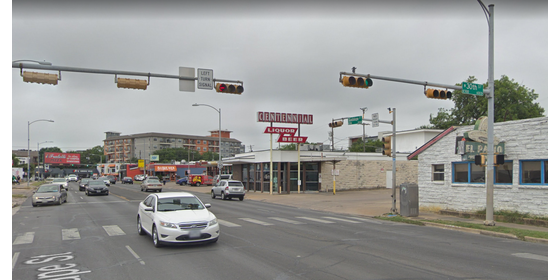left turn signal sign: (197, 67, 215, 90)
street name sign: (460, 80, 486, 95), (345, 115, 364, 126)
